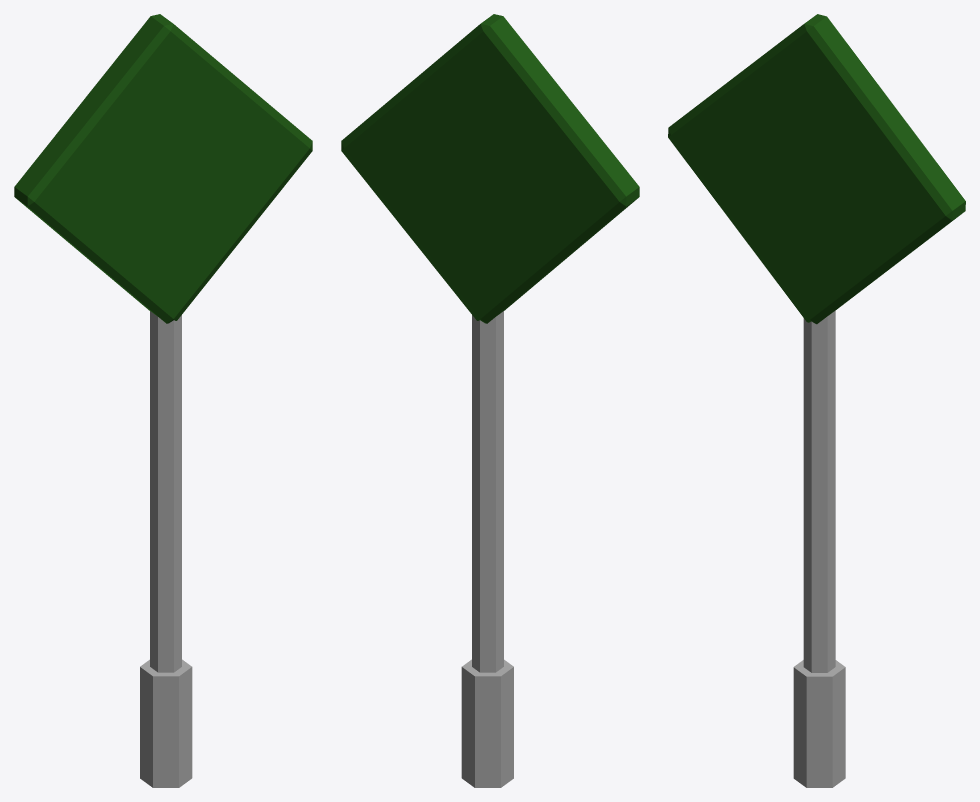
Rendered from sign-by-zsky-vyKTXzJdEw.glb.
3 views of the same model, side by side, from view 1: azimuth 30°, elevation 25°; view 2: azimuth 150°, elevation 25°; view 3: azimuth 330°, elevation 25° (orthographic).
Visible parts, largest first — view 1: SignBoard_02_Cylinder.011; view 2: SignBoard_02_Cylinder.011; view 3: SignBoard_02_Cylinder.011.
Boxes of the visible parts, box(x1,y1,x2,y2) form: SignBoard_02_Cylinder.011: box(14, 14, 312, 787); SignBoard_02_Cylinder.011: box(341, 14, 639, 787); SignBoard_02_Cylinder.011: box(668, 14, 965, 787).
Size of the model in its own units: 6.95 by 17.68 by 1.1.
